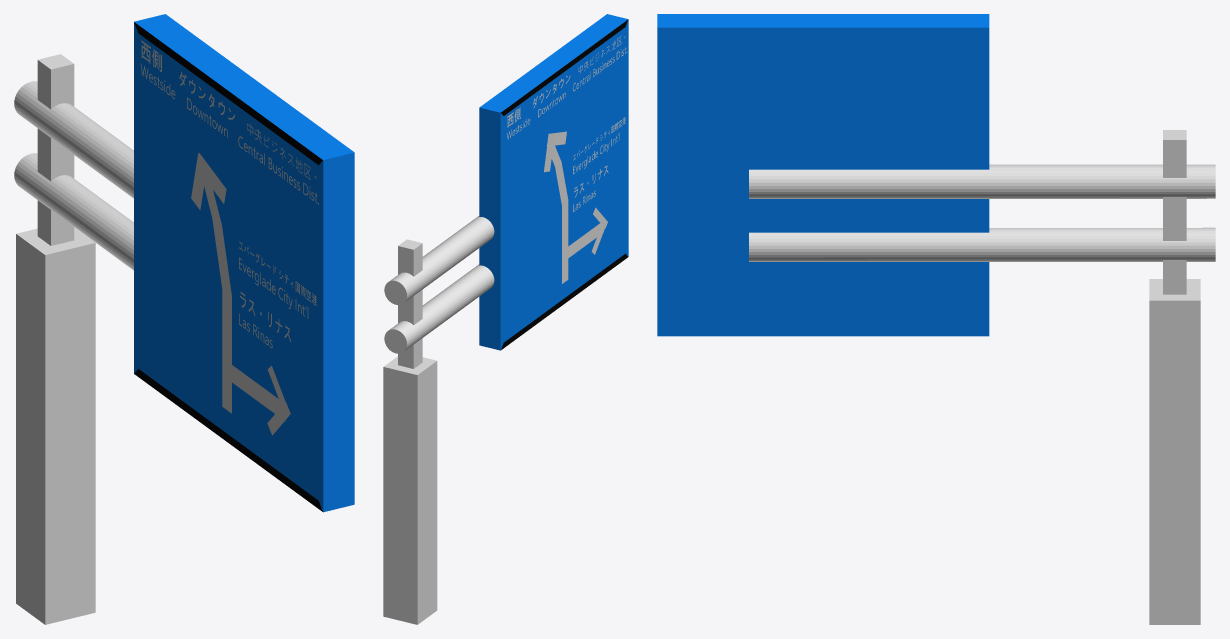
File: japantown_sign_11.fbx
3 views of the same model, side by side, from view 1: azimuth 30°, elevation 25°; view 2: azimuth 150°, elevation 25°; view 3: azimuth 270°, elevation 25° (orthographic). The views are drawn at different scales.
Visible parts, largest first — view 1: Cube.003, Cube, Cylinder, Cylinder.001, Plane, Plane.001, Plane.005; view 2: Cube.003, Cube, Cylinder.001, Cylinder, Plane, Plane.001; view 3: Cube.003, Cube, Cylinder, Cylinder.001.
Part boxes in pixels (left/top/right/bottom): Cube.003: left=134, top=14, right=354, bottom=512; Cube: left=16, top=54, right=95, bottom=624; Cylinder: left=14, top=81, right=133, bottom=198; Cylinder.001: left=14, top=153, right=133, bottom=270; Plane: left=204, top=180, right=231, bottom=413; Plane.001: left=232, top=365, right=285, bottom=421; Plane.005: left=191, top=153, right=207, bottom=209; Cube.003: left=479, top=14, right=628, bottom=350; Cube: left=383, top=239, right=437, bottom=624; Cylinder.001: left=384, top=264, right=494, bottom=353; Cylinder: left=384, top=216, right=494, bottom=304; Plane: left=546, top=145, right=568, bottom=283; Plane.001: left=568, top=223, right=603, bottom=257; Cube.003: left=657, top=14, right=989, bottom=336; Cube: left=1149, top=130, right=1200, bottom=624; Cylinder: left=749, top=164, right=1215, bottom=198; Cylinder.001: left=749, top=227, right=1215, bottom=261.
Bounding box in the file's own units: 6.7 × 76.11 × 65.5.
